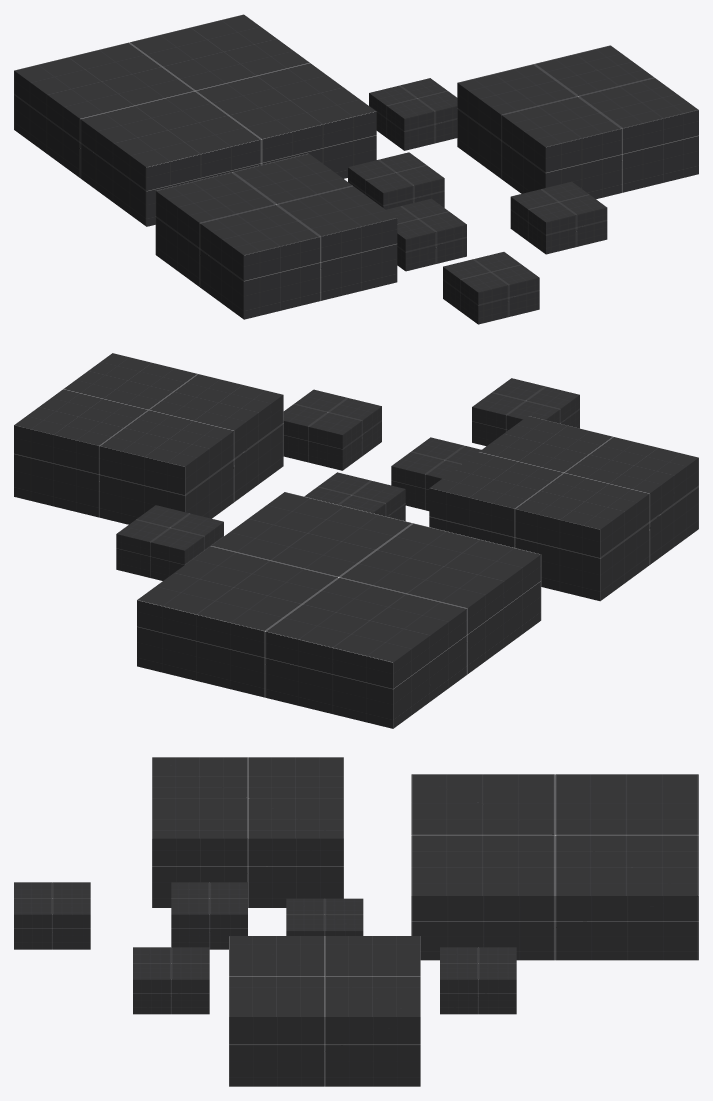
The model's file is world.glb.
3 views of the same model, one above another, from view 1: azimuth 30°, elevation 25°; view 2: azimuth 150°, elevation 25°; view 3: azimuth 270°, elevation 25° (orthographic). The views are drawn at different scales.
Parts seen in each view (by area): view 1: Plane.003, Plane.004, Plane, Plane.006, Plane.002, Plane.005, Plane.007, Plane.001; view 2: Plane.003, Plane, Plane.004, Plane.006, Plane.005, Plane.002, Plane.007, Plane.001; view 3: Plane.003, Plane, Plane.004, Plane.002, Plane.005, Plane.006, Plane.007, Plane.001.
Boxes of the visible parts, bbox=[...] form: Plane.003: bbox=[14, 14, 376, 226]; Plane.004: bbox=[155, 153, 397, 319]; Plane: bbox=[457, 45, 698, 199]; Plane.006: bbox=[510, 181, 607, 254]; Plane.002: bbox=[443, 252, 539, 324]; Plane.005: bbox=[369, 78, 457, 150]; Plane.007: bbox=[386, 198, 466, 271]; Plane.001: bbox=[348, 152, 444, 209]; Plane.003: bbox=[137, 492, 541, 728]; Plane: bbox=[14, 353, 283, 524]; Plane.004: bbox=[429, 416, 698, 601]; Plane.006: bbox=[283, 389, 381, 470]; Plane.005: bbox=[116, 505, 223, 580]; Plane.002: bbox=[472, 378, 579, 446]; Plane.007: bbox=[391, 437, 481, 510]; Plane.001: bbox=[304, 472, 405, 521]; Plane.003: bbox=[411, 774, 698, 960]; Plane: bbox=[229, 936, 420, 1086]; Plane.004: bbox=[152, 757, 343, 907]; Plane.002: bbox=[14, 882, 90, 949]; Plane.005: bbox=[440, 947, 516, 1014]; Plane.006: bbox=[133, 947, 209, 1014]; Plane.007: bbox=[171, 882, 247, 949]; Plane.001: bbox=[286, 898, 363, 935].
Size of the model in its own units: 160 by 20 by 178.
1 material, 1 textured.
